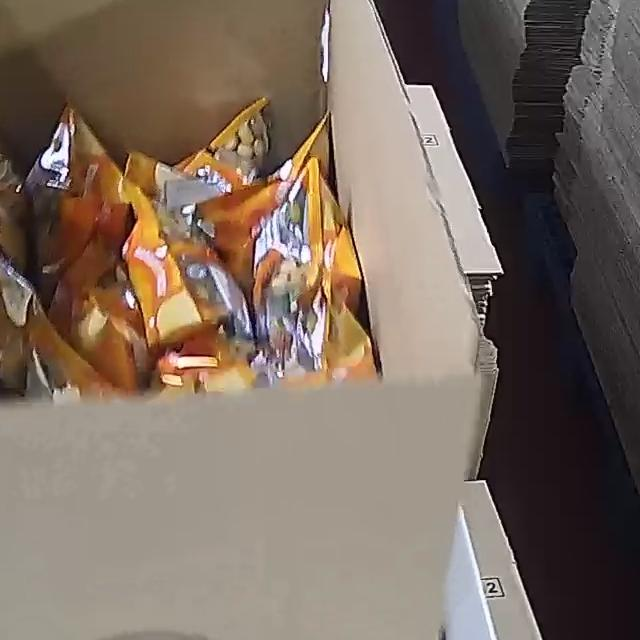cheese: (0, 93, 379, 402)
